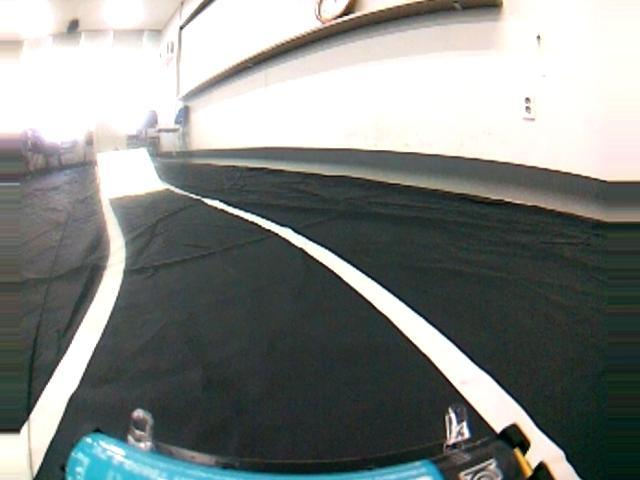straight: (0, 227, 639, 475)
